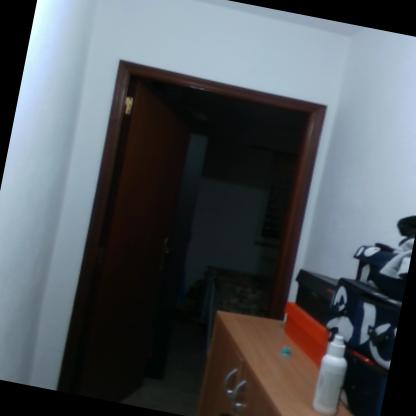open: (36, 38, 350, 415)
